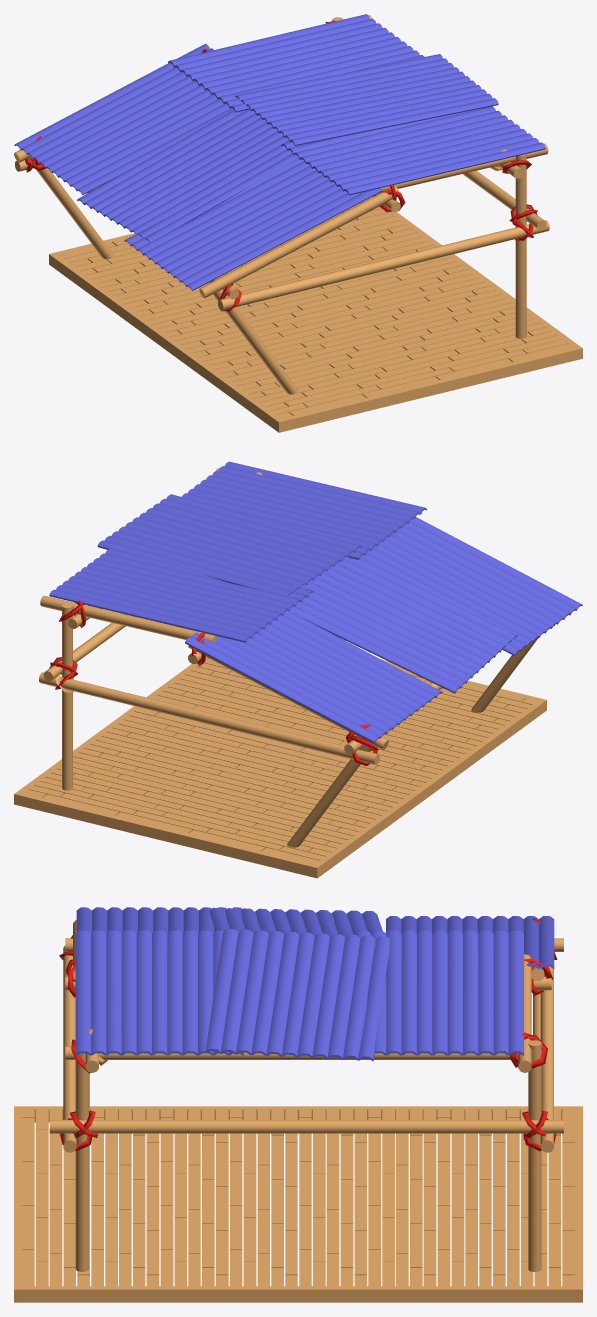
The model's file is Stall_01.fbx.
3 views of the same model, one above another, from view 1: azimuth 30°, elevation 25°; view 2: azimuth 150°, elevation 25°; view 3: azimuth 270°, elevation 25° (orthographic). The views are drawn at different scales.
Parts seen in each view (by area): view 1: Cube.002; view 2: Cube.002; view 3: Cube.002.
Boxes of the visible parts, x1=… form: Cube.002: x1=14, y1=14, x2=582, y2=432; Cube.002: x1=14, y1=461, x2=582, y2=878; Cube.002: x1=14, y1=907, x2=582, y2=1302.
Size of the model in its own units: 715 by 379 by 777.
